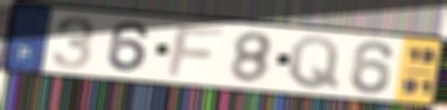3: (50, 15, 98, 70)
6: (348, 39, 395, 96), (107, 20, 152, 75)
8: (227, 30, 276, 85)
F: (164, 25, 227, 79)
Q: (287, 34, 342, 92)
